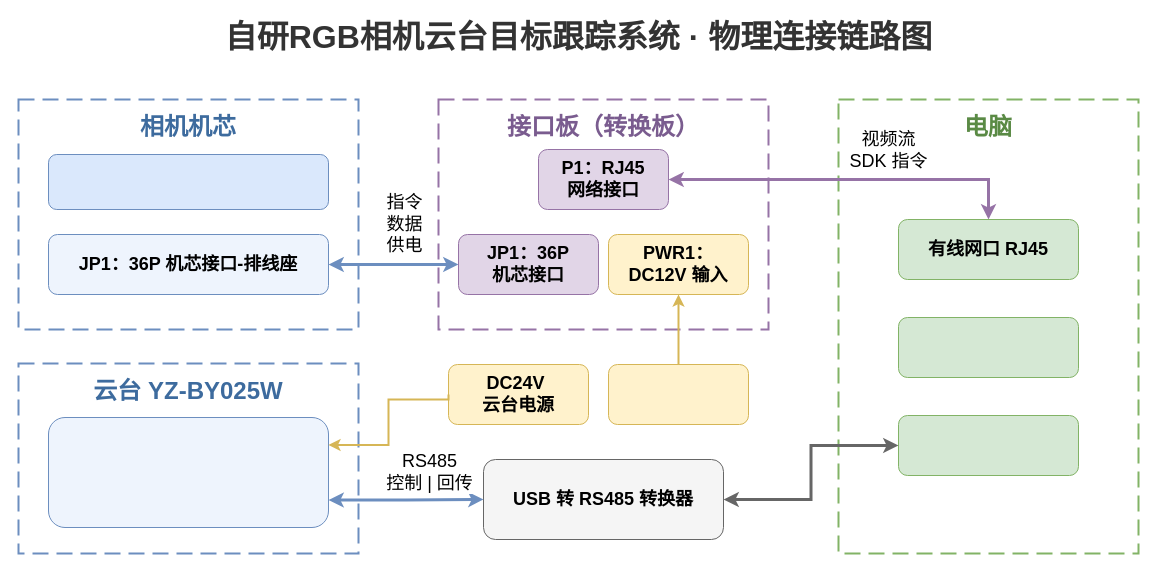
Image size: 1156x571. Some labels were removed from this diagram. The shapes that lost their labels are listed below. From the top down, each one's centre as x and y in pixels, then its label:
(188,182): 镜头
(988,347): Qt 上位机软件
(678,394): DC12V 相机电源
(988,445): USB 口
(188,472): 下部航空总线 DC24V + GND（系统供电） RS485 云台通讯
